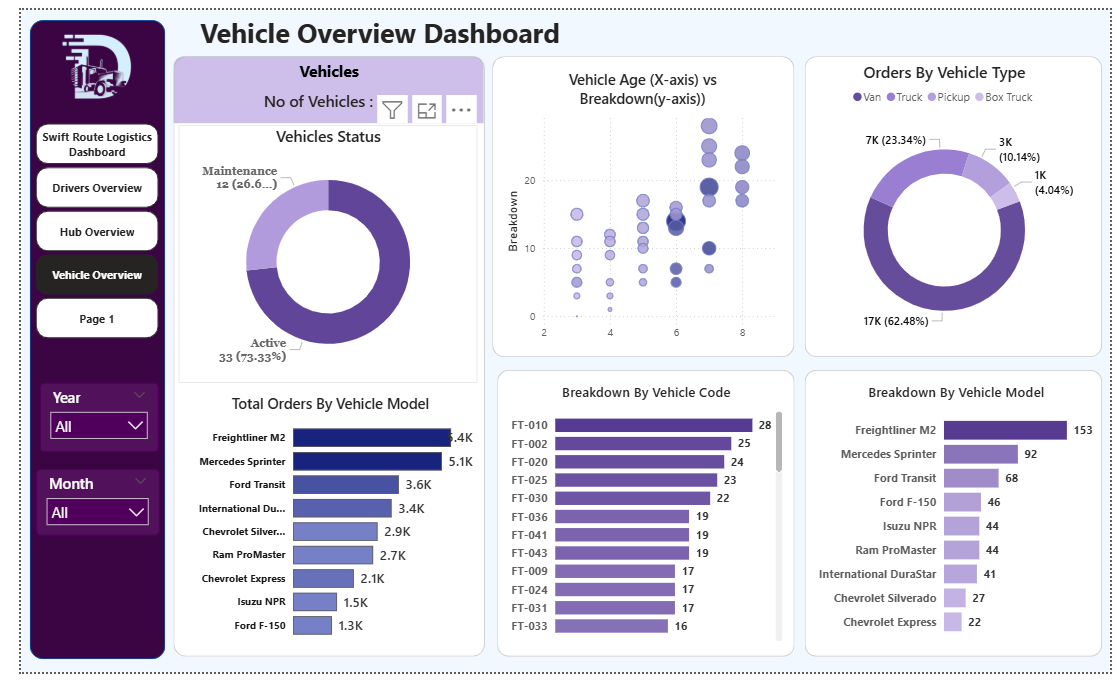

Layout of this report page (visuals, bound fields, positions):
{"tool":"powerbi","page":{"name":"Vehicle Overview","canvas":[1300,790],"ordinal":3},"visuals":[{"type":"shape","box":[181.7,54.9,371.8,716.9],"z":0},{"type":"shape","box":[9.9,11.3,162,763.4],"z":1000},{"type":"textbox","box":[172.4,0,511.1,55],"z":2000},{"type":"slicer","fields":{"Values":["Calendar Date.Year"]},"box":[22.5,445.1,142.3,83.1],"z":3000},{"type":"slicer","fields":{"Values":["Calendar Date.Month Name"]},"box":[18.3,547.9,147.9,80.3],"z":4000},{"type":"image","box":[15.5,21.1,152.1,100],"z":5000},{"type":"cardVisual","fields":{"Data":["Measure Data.Year-Month Title"]},"box":[995.8,7,247.9,47.9],"z":6000},{"type":"shape","box":[563.4,54.9,360.6,359.2],"z":7000},{"type":"pageNavigator","box":[18.3,135.2,146.5,259.2],"z":8000},{"type":"shape","box":[181.7,54.9,370.4,80.3],"z":9000},{"type":"textbox","box":[302.8,54.9,129.6,35.2],"z":10000},{"type":"cardVisual","fields":{"Data":["Measure Data.Total Vehicle"]},"box":[254.9,88.7,226.8,38],"z":11000},{"type":"donutChart","title":"Vehicles Status","fields":{"Category":["Dim_Vehicles.Vehicle Status"],"Y":["CountNonNull(Dim_Vehicles.Vehicle Model)"]},"box":[187.3,138,357.7,307],"z":12000},{"type":"barChart","title":"Total Orders By Vehicle Model","fields":{"Category":["Dim_Vehicles.Vehicle Model"],"Y":["Measure Data.Total Orders"]},"box":[194.4,457.7,350.7,304.2],"z":13000},{"type":"shape","box":[935.2,54.9,354.9,359.2],"z":14000},{"type":"scatterChart","title":"Vehicle Age (X-axis) vs Breakdown(y-axis))","fields":{"X":["Dim_Vehicles.Vehicle Age"],"Y":["Dim_Vehicles.Breakdown"],"Size":["Sum(Dim_Vehicles.Breakdown)1"]},"box":[574.6,71.8,335.2,332.4],"z":15000},{"type":"shape","box":[569,429.6,354.9,342.3],"z":16000},{"type":"shape","box":[935.2,429.6,354.9,342.3],"z":17000},{"type":"barChart","title":"Breakdown By Vehicle Code","fields":{"Category":["Dim_Vehicles.Vehicle Code"],"Y":["Sum(Dim_Vehicles.Breakdown)"]},"box":[578.9,445.1,335.2,314.1],"z":18000},{"type":"barChart","title":"Breakdown By Vehicle Model","fields":{"Y":["Sum(Dim_Vehicles.Breakdown)"],"Category":["Dim_Vehicles.Vehicle Model"]},"box":[946.5,445.1,340.8,314.1],"z":19000},{"type":"donutChart","title":"Orders By Vehicle Type","fields":{"Y":["Measure Data.Total Orders"],"Category":["Fact_Orders.Vehicle Type"]},"box":[946.5,60.6,332.4,349.3],"z":20000}]}

Visuals, with their boxes on the page's 1300x790 design canvas (x1, y1, x2, y2). These are canvas units, not pixel positions in the 1117x682 screenshot, which may show the page scaled, cropped or inside an application window:
shape: <bbox>182, 55, 554, 772</bbox>
shape: <bbox>10, 11, 172, 775</bbox>
textbox: <bbox>172, 0, 684, 55</bbox>
slicer - Calendar Date.Year: <bbox>22, 445, 165, 528</bbox>
slicer - Calendar Date.Month Name: <bbox>18, 548, 166, 628</bbox>
image: <bbox>16, 21, 168, 121</bbox>
cardVisual - Measure Data.Year-Month Title: <bbox>996, 7, 1244, 55</bbox>
shape: <bbox>563, 55, 924, 414</bbox>
pageNavigator: <bbox>18, 135, 165, 394</bbox>
shape: <bbox>182, 55, 552, 135</bbox>
textbox: <bbox>303, 55, 432, 90</bbox>
cardVisual - Measure Data.Total Vehicle: <bbox>255, 89, 482, 127</bbox>
"Vehicles Status" donutChart: <bbox>187, 138, 545, 445</bbox>
"Total Orders By Vehicle Model" barChart: <bbox>194, 458, 545, 762</bbox>
shape: <bbox>935, 55, 1290, 414</bbox>
"Vehicle Age (X-axis) vs Breakdown(y-axis))" scatterChart: <bbox>575, 72, 910, 404</bbox>
shape: <bbox>569, 430, 924, 772</bbox>
shape: <bbox>935, 430, 1290, 772</bbox>
"Breakdown By Vehicle Code" barChart: <bbox>579, 445, 914, 759</bbox>
"Breakdown By Vehicle Model" barChart: <bbox>946, 445, 1287, 759</bbox>
"Orders By Vehicle Type" donutChart: <bbox>946, 61, 1279, 410</bbox>
